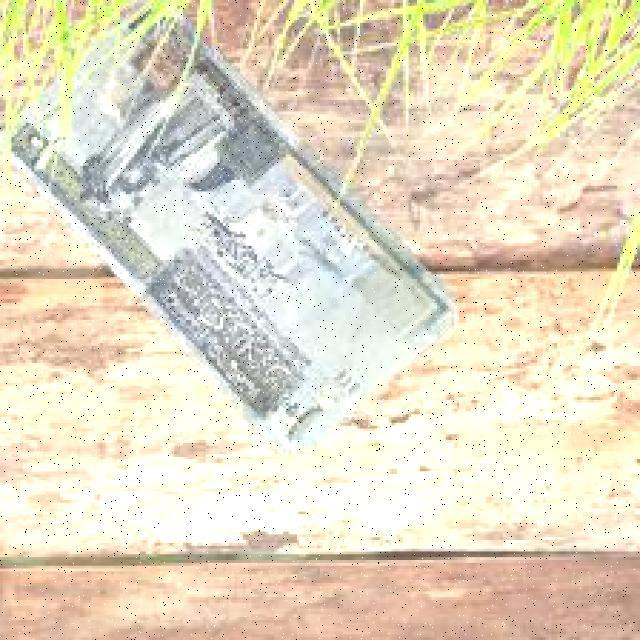10-dinar: (0, 0, 461, 456)
